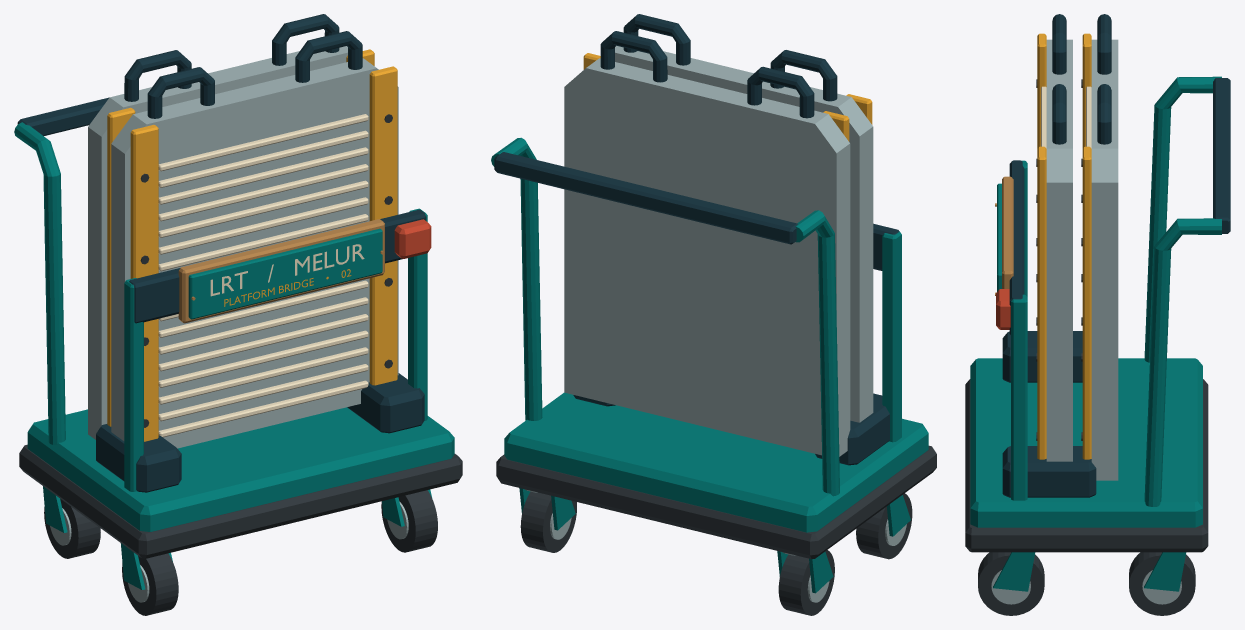
3 renders of one model, left to right at view 1: azimuth 30°, elevation 25°; view 2: azimuth 150°, elevation 25°; view 3: azimuth 270°, elevation 25°, orthographic. The views are drawn at different scales.
Parts seen in each view (by area): view 1: Bridge leaf, Low carrier, Rolled grip beads, High visibility nosings, Bumper rail, Enamel plaque field, Latch stanchion, Carry sockets, Leaf carry grips, Station push rail, Solid rubber tyres, Beaded plaque rim (+6 smaller); view 2: Bridge leaf, Low carrier, Bumper rail, Station push rail, Rear handle, Leaf carry grips, Solid rubber tyres, Latch stanchion, Swivel fork, Carry sockets, High visibility nosings, Pressed hubs; view 3: Low carrier, Bridge leaf, Station push rail, Bumper rail, High visibility nosings, Carry sockets, Solid rubber tyres, Latch stanchion, Leaf carry grips, Rear handle, Swivel fork, Release strap (+5 smaller).
Boxes of the visible parts, left/top/right/bottom form: Bridge leaf: left=88, top=46, right=398, bottom=448; Low carrier: left=27, top=407, right=454, bottom=531; Rolled grip beads: left=158, top=114, right=368, bottom=437; High visibility nosings: left=107, top=49, right=397, bottom=441; Bumper rail: left=19, top=444, right=462, bottom=558; Enamel plaque field: left=188, top=228, right=382, bottom=319; Latch stanchion: left=124, top=208, right=427, bottom=491; Carry sockets: left=96, top=373, right=424, bottom=492; Leaf carry grips: left=124, top=14, right=362, bottom=118; Station push rail: left=14, top=122, right=65, bottom=445; Solid rubber tyres: left=44, top=490, right=437, bottom=615; Beaded plaque rim: left=178, top=219, right=384, bottom=323; Bridge leaf: left=564, top=45, right=873, bottom=456; Low carrier: left=504, top=392, right=928, bottom=532; Bumper rail: left=496, top=445, right=936, bottom=559; Station push rail: left=491, top=137, right=839, bottom=496; Rear handle: left=494, top=152, right=797, bottom=244; Leaf carry grips: left=600, top=14, right=837, bottom=118; Solid rubber tyres: left=520, top=491, right=912, bottom=615; Latch stanchion: left=882, top=231, right=901, bottom=442; Swivel fork: left=519, top=488, right=910, bottom=593; Carry sockets: left=573, top=393, right=889, bottom=465; High visibility nosings: left=583, top=53, right=872, bottom=141; Pressed hubs: left=550, top=513, right=906, bottom=602; Low carrier: left=970, top=358, right=1202, bottom=527; Bridge leaf: left=1046, top=39, right=1118, bottom=480; Station push rail: left=1144, top=76, right=1221, bottom=506; Bumper rail: left=965, top=379, right=1208, bottom=552; High visibility nosings: left=1037, top=33, right=1091, bottom=459; Carry sockets: left=1002, top=331, right=1096, bottom=497; Solid rubber tyres: left=978, top=552, right=1195, bottom=615; Latch stanchion: left=1011, top=160, right=1027, bottom=500; Leaf carry grips: left=1052, top=14, right=1111, bottom=144; Rear handle: left=1213, top=78, right=1230, bottom=233; Swivel fork: left=993, top=552, right=1186, bottom=591; Release strap: left=1009, top=160, right=1024, bottom=334.
Bounding box in the file's own units: 1.12 × 1.67 × 0.8195.
